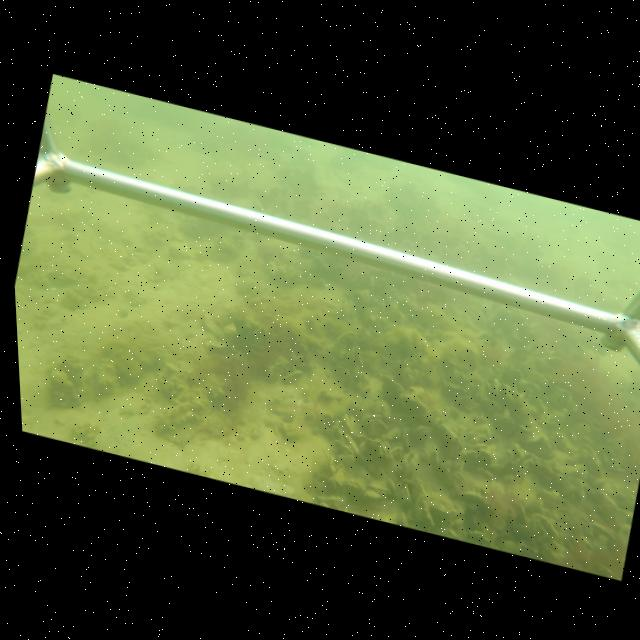Oyster-Closed: (410, 477, 434, 531), (432, 424, 464, 460), (396, 392, 428, 417), (401, 426, 420, 465), (434, 462, 453, 489), (592, 489, 614, 512), (442, 381, 464, 398), (399, 367, 415, 387), (366, 482, 392, 494), (344, 478, 366, 491)
Oyster-Indeterminate: (529, 462, 570, 491), (353, 435, 388, 468), (361, 418, 387, 438), (266, 361, 286, 383), (476, 332, 498, 350), (397, 483, 412, 509), (280, 370, 306, 385)
Oyster-Open: (530, 512, 558, 540), (491, 415, 516, 438), (345, 344, 364, 369)
